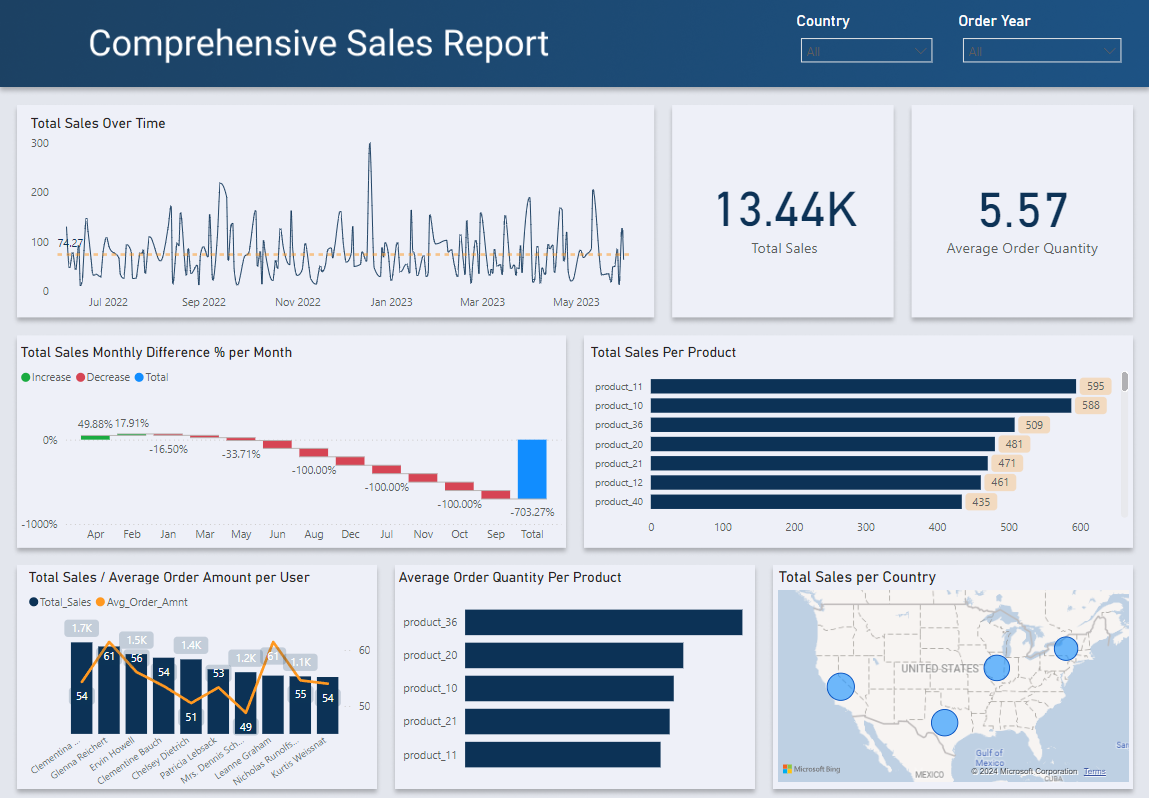

The dashboard page shown, as its layout file describes it:
{"tool":"powerbi","page":{"name":"Page 1","canvas":[1280,900],"ordinal":0},"visuals":[{"type":"lineChart","title":"Total Sales Over Time","fields":{"Y":["_Measures_Table.Total_Sales"],"Category":["sales_fact.order_date.Variation.Date Hierarchy.Year"]},"box":[30,123.8,695,231.2],"z":0},{"type":"lineClusteredColumnComboChart","title":"Total Sales / Average Order Amount per User","fields":{"Category":["users_dim.name"],"Y":["_Measures_Table.Total_Sales"],"Y2":["_Measures_Table.Avg_Order_Amnt"]},"box":[27.8,632.2,388.9,253.3],"z":1000},{"type":"clusteredBarChart","title":"Average Order Quantity Per Product","fields":{"Category":["product_dim.product_name","stores_dim.store_name"],"Y":["_Measures_Table.Avg_Order_Qnt"]},"box":[438.9,627.8,402.2,246.7],"z":2000},{"type":"clusteredBarChart","title":"Total Sales Per Product","fields":{"Category":["product_dim.product_name"],"Y":["_Measures_Table.Total_Sales"]},"box":[652.5,377.5,607.5,227.5],"z":3000},{"type":"card","fields":{"Values":["_Measures_Table.Total_Sales"]},"box":[751.1,123.3,243.3,227.8],"z":4000},{"type":"card","fields":{"Values":["_Measures_Table.Avg_Order_Qnt"]},"box":[1014.2,123,245,228.3],"z":5000},{"type":"map","title":"Total Sales per Country","fields":{"Category":["stores_dim.country"],"Size":["_Measures_Table.Total_Sales"]},"box":[861.2,632.5,398.8,242.5],"z":6000},{"type":"waterfallChart","title":"Total Sales Monthly Difference % per Month","fields":{"Y":["_Measures_Table.Net Sales Var(Month) %"],"Category":["dim_date.ShortMonthName"]},"box":[18.9,377.8,611.1,235.6],"z":7000},{"type":"slicer","title":"Country","fields":{"Values":["stores_dim.country"]},"box":[881.1,14.4,165.6,74.4],"z":8000},{"type":"slicer","title":"Order Year","fields":{"Values":["sales_fact.Order_Year"]},"box":[1061.1,14.4,195.6,74.4],"z":9000}]}

Visuals, with their boxes in screenshot pixels (x1, y1, x2, y2), scaled from the page's 1280x900 canvas onto the 1149x798 screenshot:
"Total Sales Over Time" lineChart: Rect(27, 110, 651, 315)
"Total Sales / Average Order Amount per User" lineClusteredColumnComboChart: Rect(25, 561, 374, 785)
"Average Order Quantity Per Product" clusteredBarChart: Rect(394, 557, 755, 775)
"Total Sales Per Product" clusteredBarChart: Rect(586, 335, 1131, 536)
card - _Measures_Table.Total_Sales: Rect(674, 109, 893, 311)
card - _Measures_Table.Avg_Order_Qnt: Rect(910, 109, 1130, 311)
"Total Sales per Country" map: Rect(773, 561, 1131, 776)
"Total Sales Monthly Difference % per Month" waterfallChart: Rect(17, 335, 566, 544)
"Country" slicer: Rect(791, 13, 940, 79)
"Order Year" slicer: Rect(953, 13, 1128, 79)
